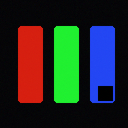1 square: (98, 86, 112, 100)
